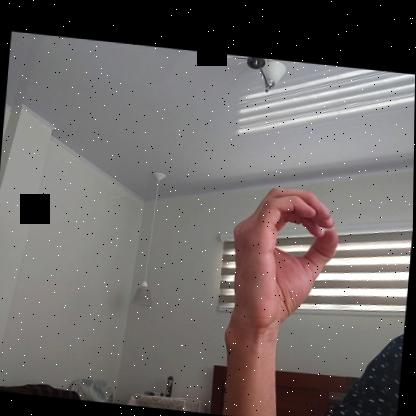O: (224, 177, 345, 337)
